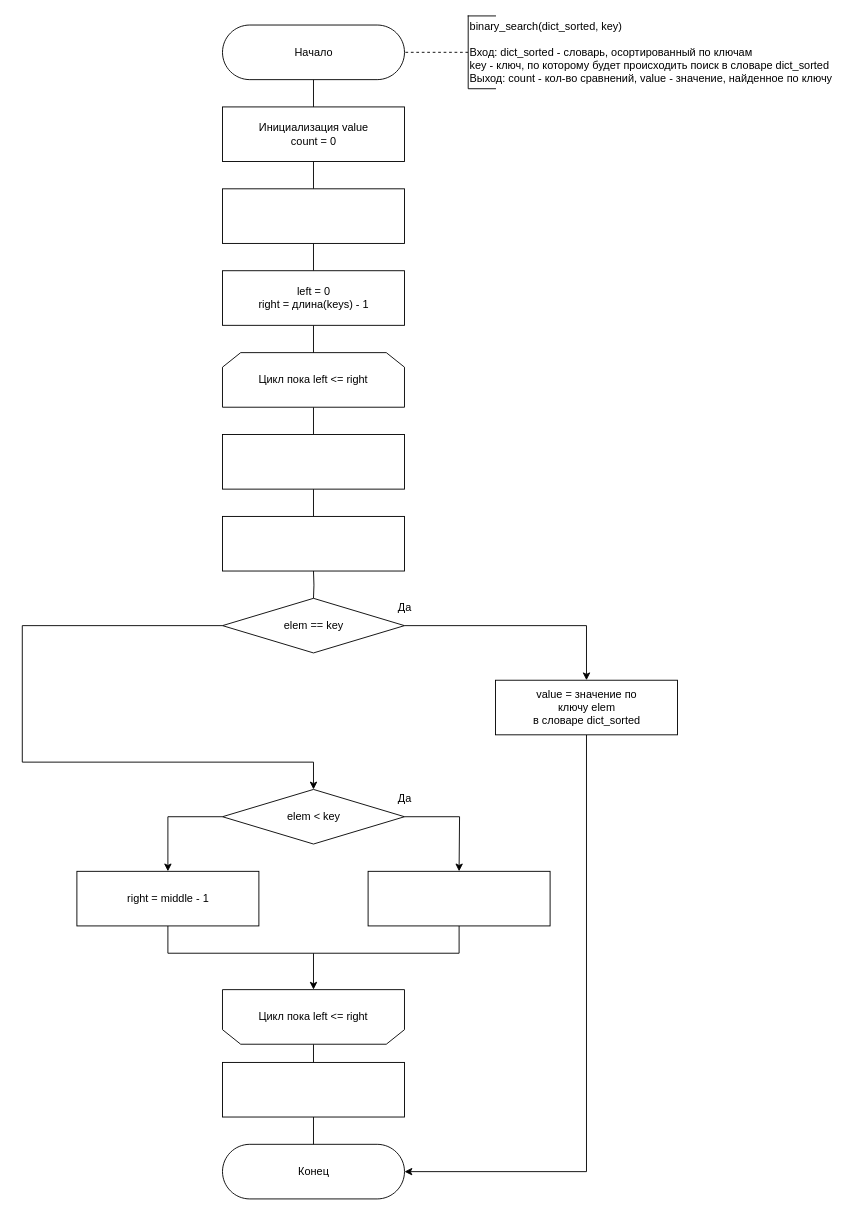
The diagram is 848 pixels wide and 1215 high, and some of its shapes have lost their labels. Here are the shapes that lost their labels. From the top down, the centre of each, then its label:
point 313,215: keys - массив ключей из словаря dict_data
point 313,461: count += 1
point 313,543: middle = (left + right) // 2 elem = keys[middle]
point 458,898: left = middle + 1
point 313,1089: count = -1 (не найден ключ в словаре)
